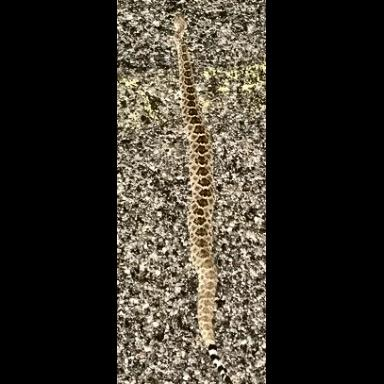snake: (119, 0, 267, 384)
